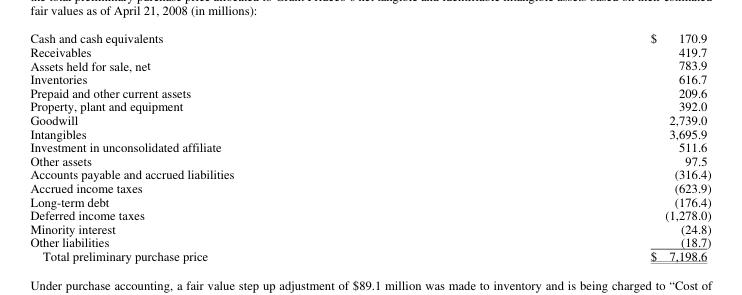table: (29, 29, 710, 263)
table column: (29, 29, 441, 263), (441, 29, 710, 263)
table row: (29, 29, 710, 44), (29, 248, 710, 263), (29, 57, 710, 71), (29, 71, 710, 85), (29, 98, 710, 112), (29, 125, 710, 139), (29, 139, 710, 153), (29, 166, 710, 180), (29, 193, 710, 207), (29, 207, 710, 221), (29, 234, 710, 248), (29, 44, 710, 57), (29, 85, 710, 98), (29, 112, 710, 125), (29, 153, 710, 166), (29, 180, 710, 193), (29, 221, 710, 234)
